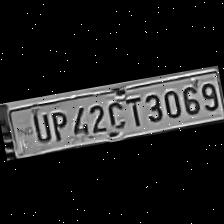0: (158, 84, 182, 119)
2: (82, 100, 106, 134)
3: (140, 88, 164, 124)
4: (65, 102, 89, 138)
6: (178, 82, 200, 116)
9: (196, 78, 220, 112)
C: (103, 96, 127, 131)
P: (46, 106, 68, 142)
T: (120, 92, 144, 128)
U: (28, 110, 52, 144)
